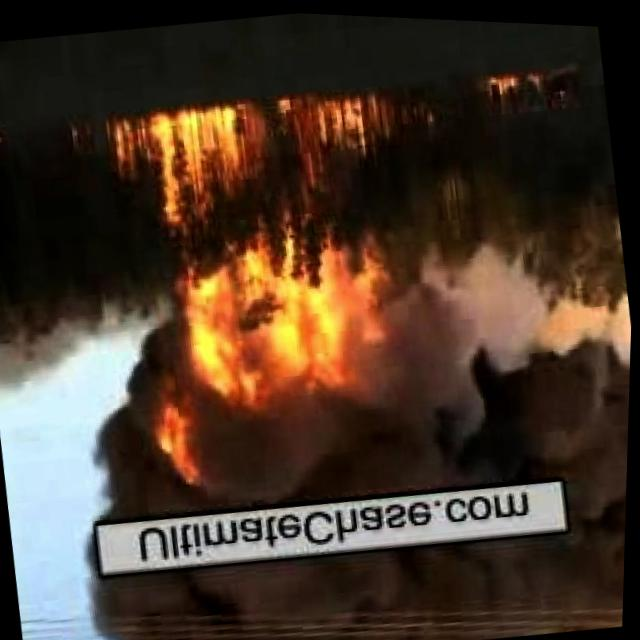helmet: (108, 68, 426, 227), (176, 230, 398, 411), (148, 373, 212, 492), (478, 61, 554, 109)
no_helmet: (86, 499, 628, 640), (209, 343, 632, 515), (384, 204, 636, 387)
